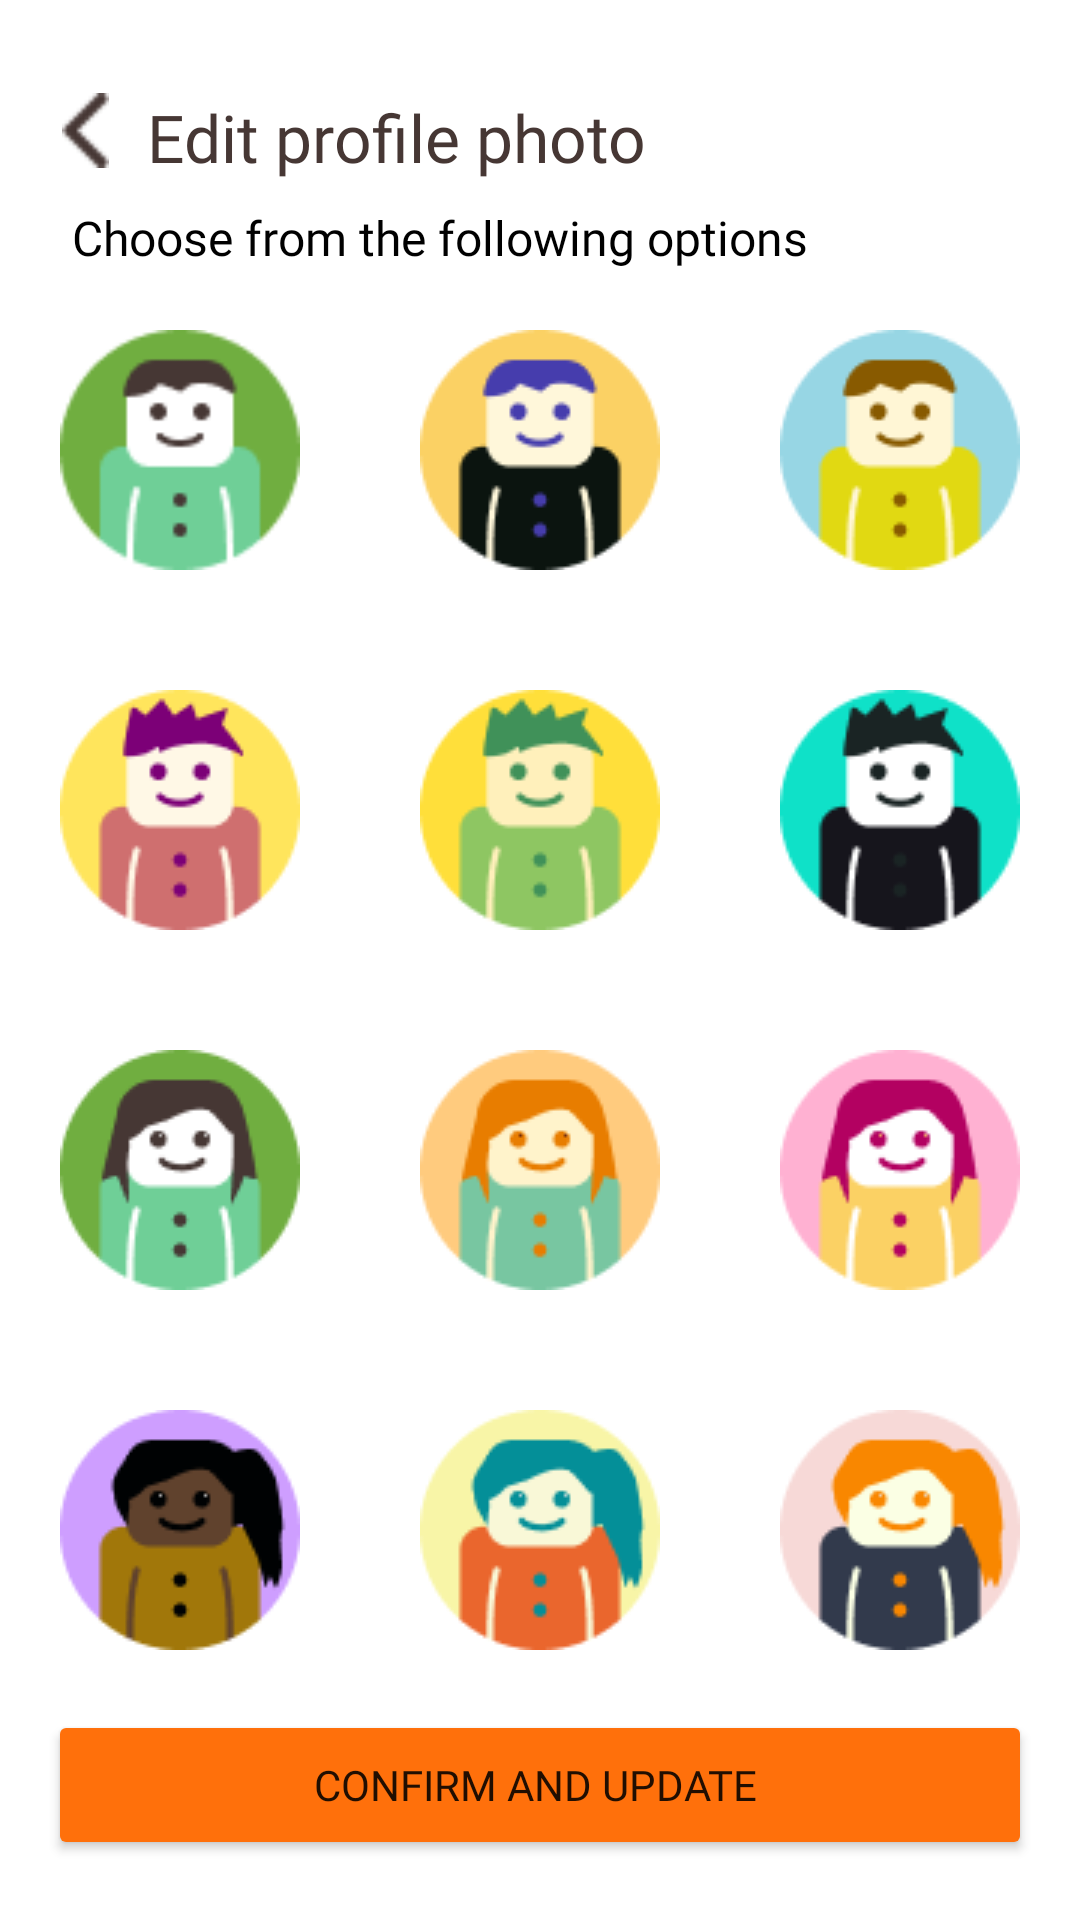

Icon bounding boxes for this 1080x1920 phone screenshot, format bbox=[x1, y1, x2, y2]:
arrow: bbox=[62, 93, 109, 168]
